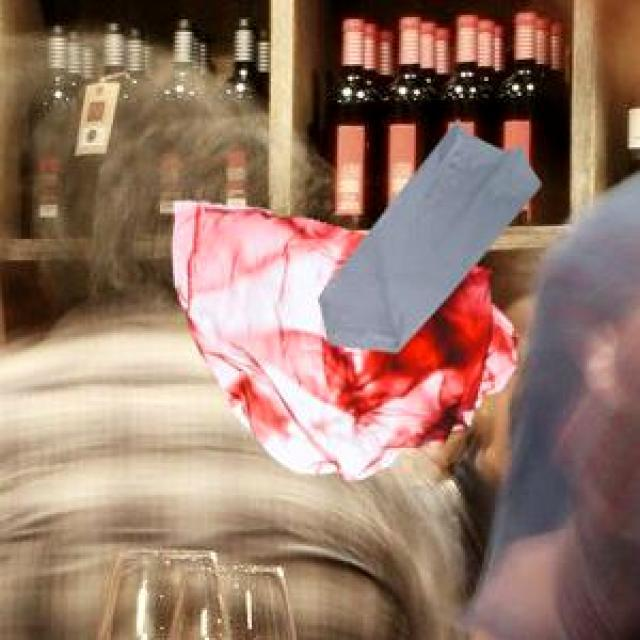Plastic_Bag: (170, 197, 514, 477), (316, 116, 536, 349)
